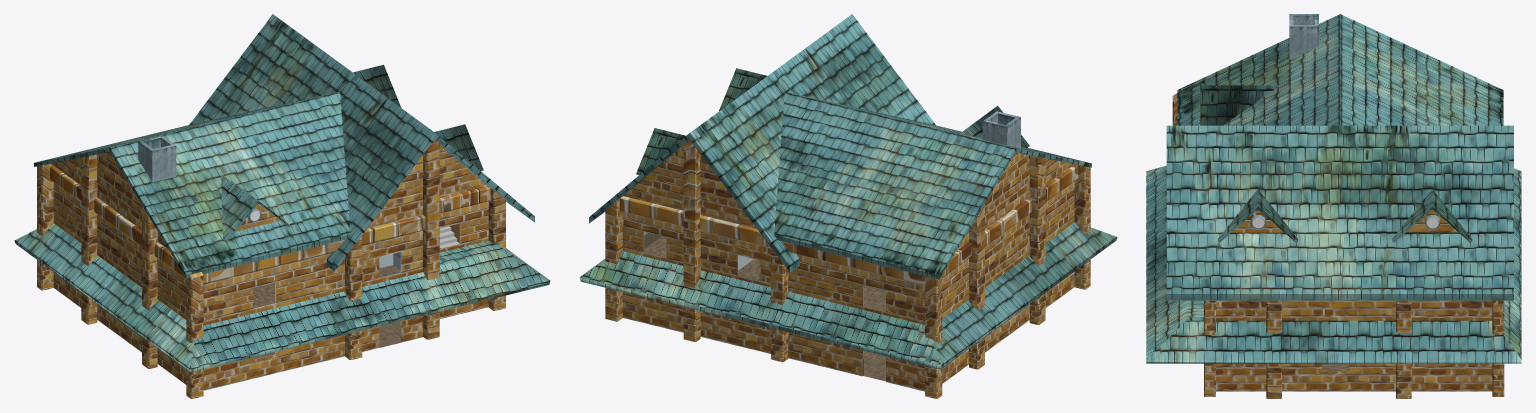
The model's file is House_Miller.fbx.
3 renders of one model, left to right at view 1: azimuth 30°, elevation 25°; view 2: azimuth 150°, elevation 25°; view 3: azimuth 270°, elevation 25°, orthographic. The views are drawn at different scales.
Visible parts, largest first — view 1: Roof, Roofs2, Roof2, Central_Exterior, Down_Exterior, Up_Exterior, Trave, Trave5, Canna_Fumaria, polySurface88, Pillar_Up, Pillar_Central2 (+16 smaller); view 2: Roof1, Roofs2, Roof2, Central_Exterior, Down_Exterior, Up_Exterior, Trave4, Trave5, Pillar_Up3, Pillar_Central8, Canna_Fumaria, Second_Floor1 (+17 smaller); view 3: Roof3, Roofs2, Roof1, Roof, Down_Exterior, Central_Exterior, polySurface89, Canna_Fumaria, Pillar35, Pillar34, polySurface93, polySurface94 (+10 smaller).
Boxes of the visible parts, box(x1,y1,x2,y2) form: Roof: box(110, 91, 350, 278); Roofs2: box(14, 223, 550, 372); Roof2: box(189, 14, 434, 271); Central_Exterior: box(53, 182, 488, 325); Down_Exterior: box(53, 272, 488, 390); Up_Exterior: box(53, 146, 487, 249); Trave: box(203, 215, 425, 283); Trave5: box(50, 165, 186, 278); Canna_Fumaria: box(138, 135, 176, 182); polySurface88: box(221, 174, 258, 241); Pillar_Up: box(423, 139, 439, 218); Pillar_Central2: box(186, 272, 203, 343); Roof1: box(774, 92, 1015, 279); Roofs2: box(579, 222, 1117, 369); Roof2: box(689, 14, 935, 272); Central_Exterior: box(622, 181, 1074, 324); Down_Exterior: box(622, 271, 1074, 391); Up_Exterior: box(623, 146, 1074, 250); Trave4: box(619, 196, 924, 284); Trave5: box(942, 164, 1078, 277); Pillar_Up3: box(683, 139, 700, 220); Pillar_Central8: box(683, 218, 700, 288); Canna_Fumaria: box(982, 111, 1020, 148); Second_Floor1: box(644, 236, 885, 311); Roof3: box(1166, 125, 1513, 300); Roofs2: box(1146, 165, 1521, 363); Roof1: box(1340, 14, 1503, 125); Roof: box(1177, 14, 1340, 125); Down_Exterior: box(1216, 363, 1492, 391); Central_Exterior: box(1216, 300, 1492, 320); polySurface89: box(1200, 85, 1279, 125); Canna_Fumaria: box(1289, 14, 1318, 59); Pillar35: box(1396, 363, 1411, 398); Pillar34: box(1266, 363, 1281, 398); polySurface93: box(1392, 189, 1432, 242); polySurface94: box(1432, 189, 1472, 242).
Size of the model in its own units: 2155 by 1211 by 1813.
